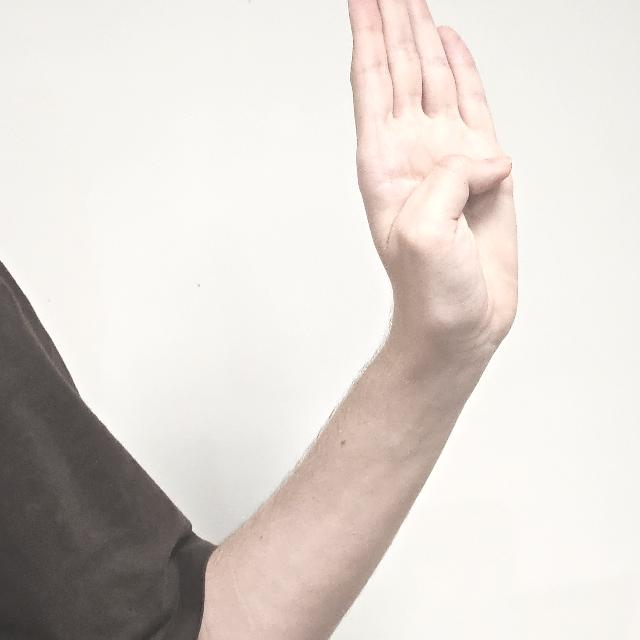Baixo: (344, 0, 526, 370)
